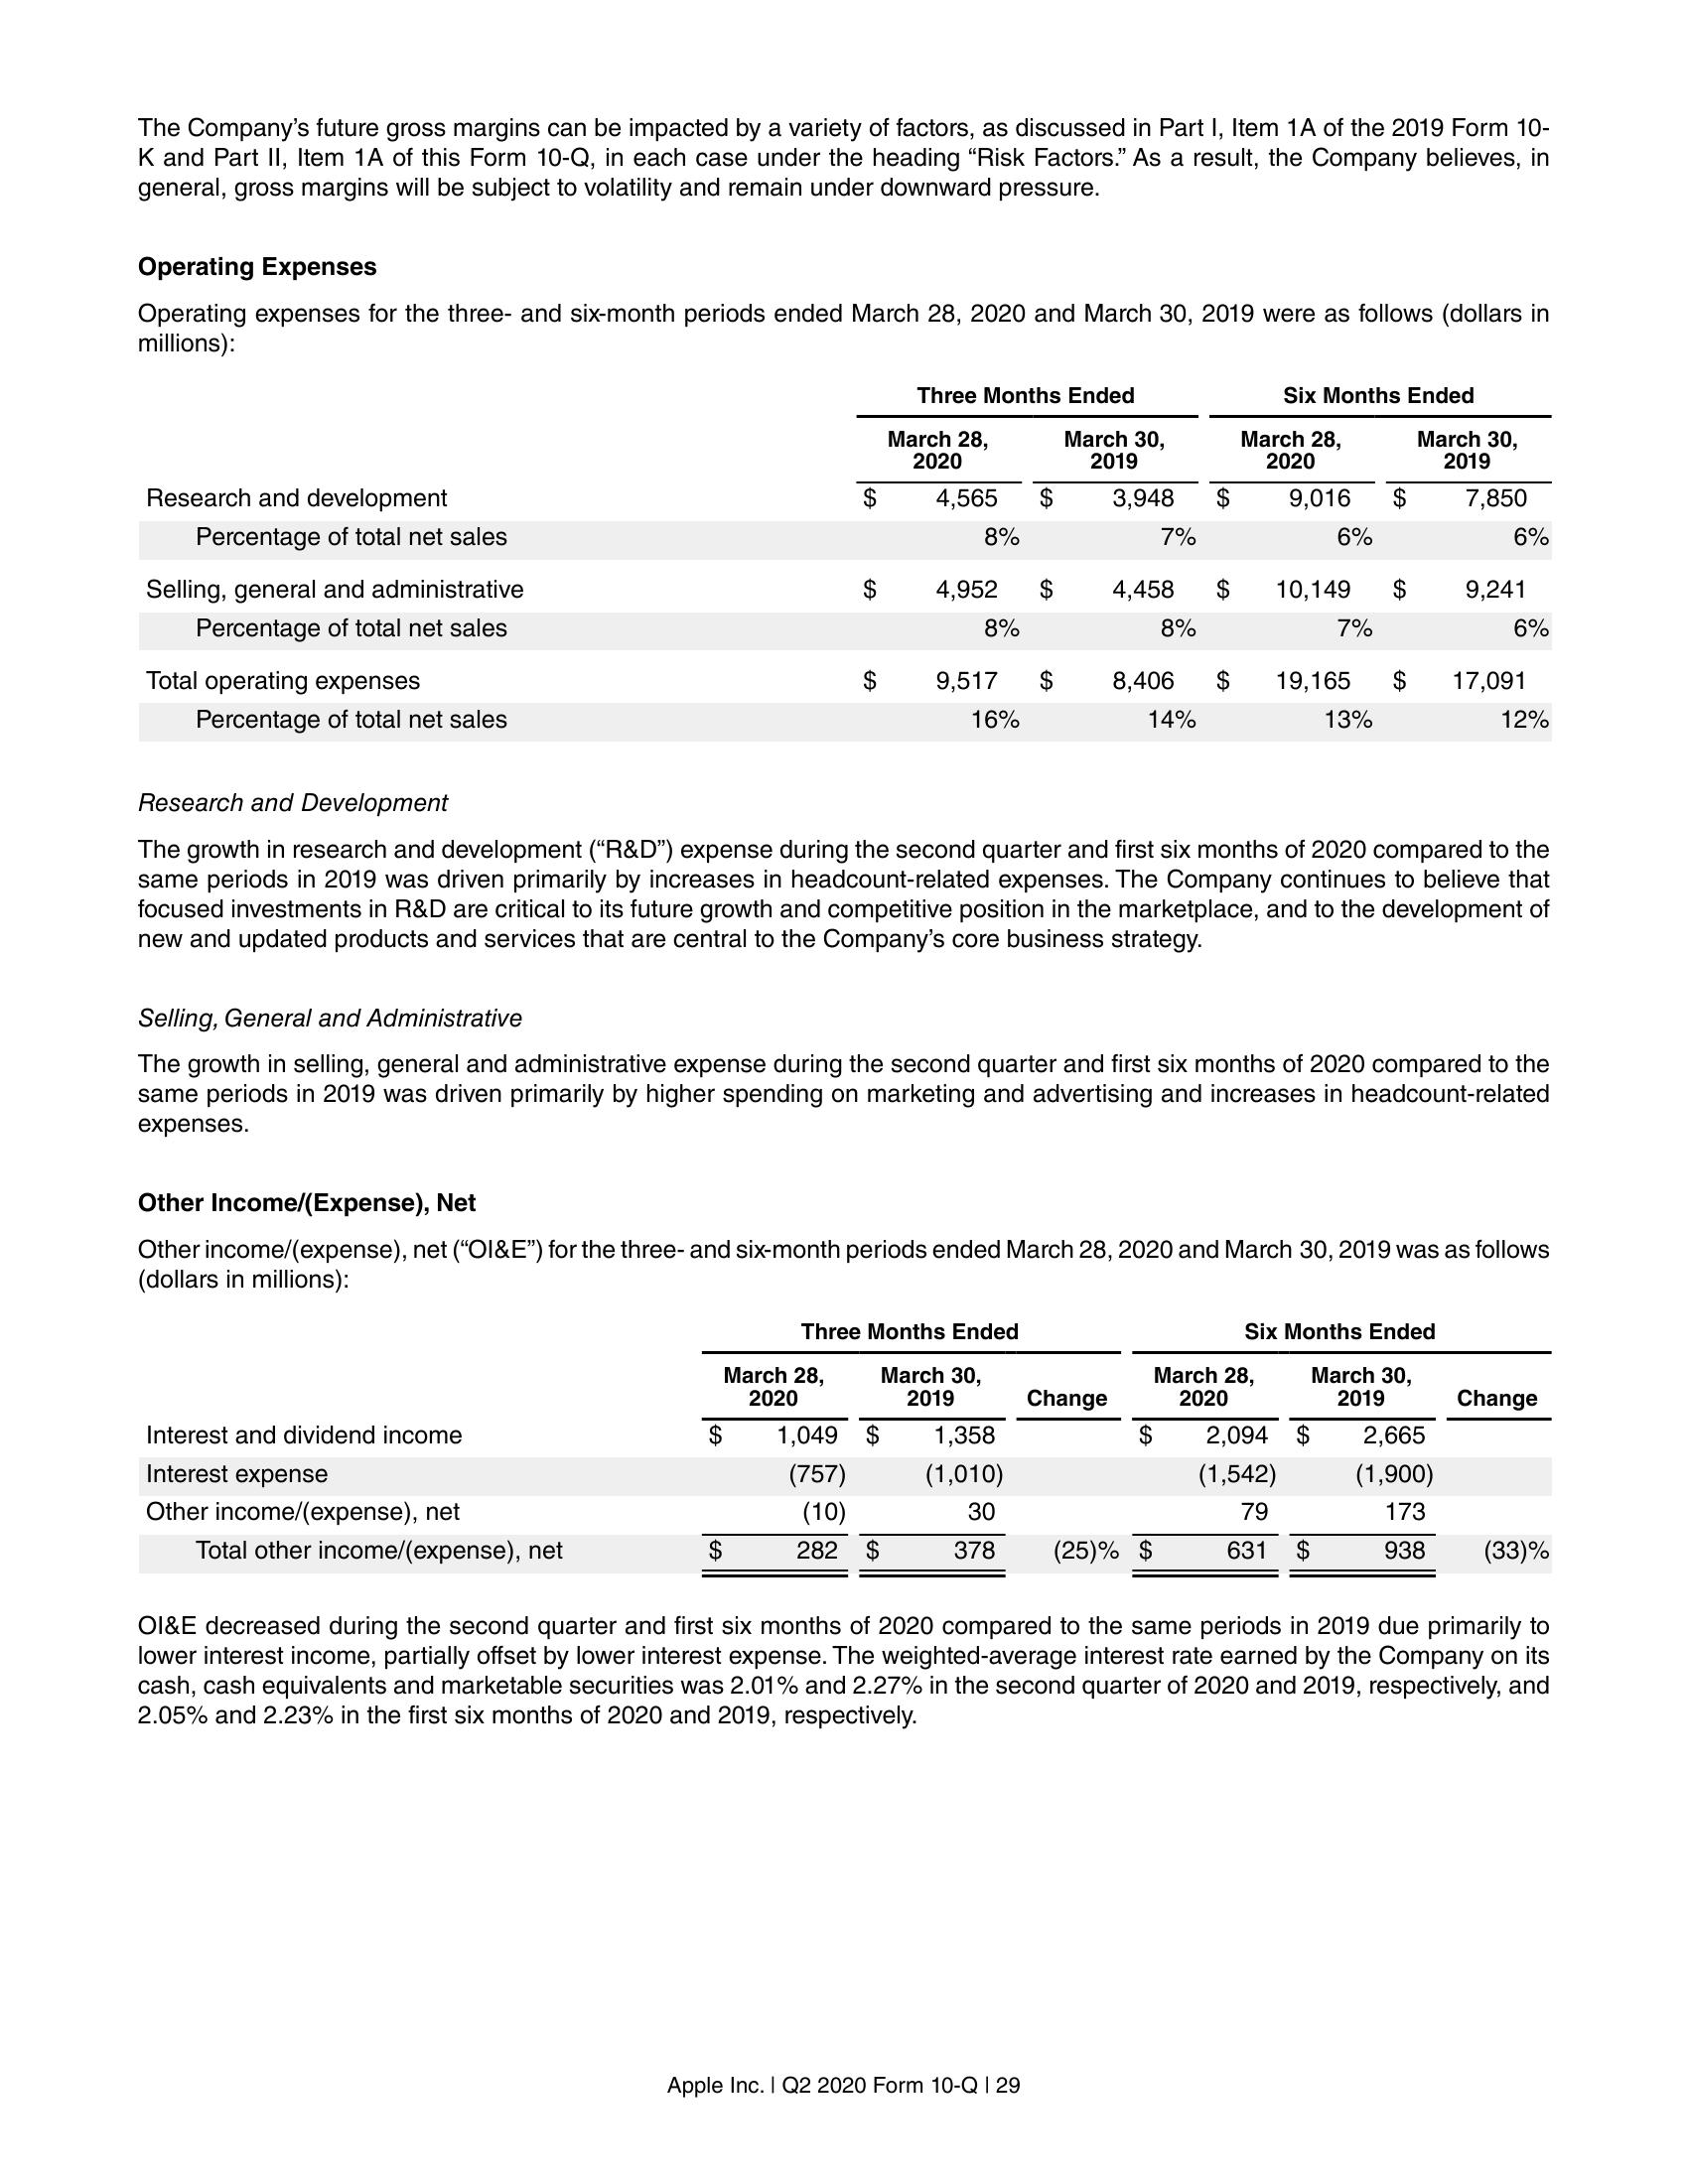table: (137, 378, 1557, 745), (144, 1310, 1551, 1594)
